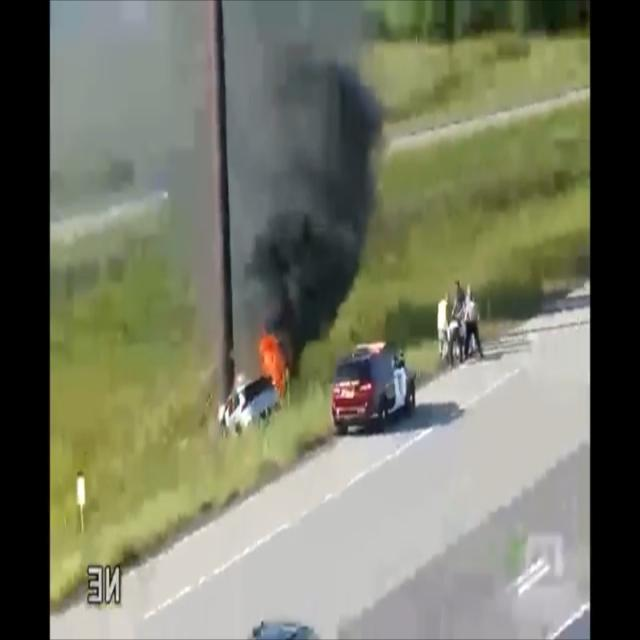fire: (256, 324, 290, 397)
